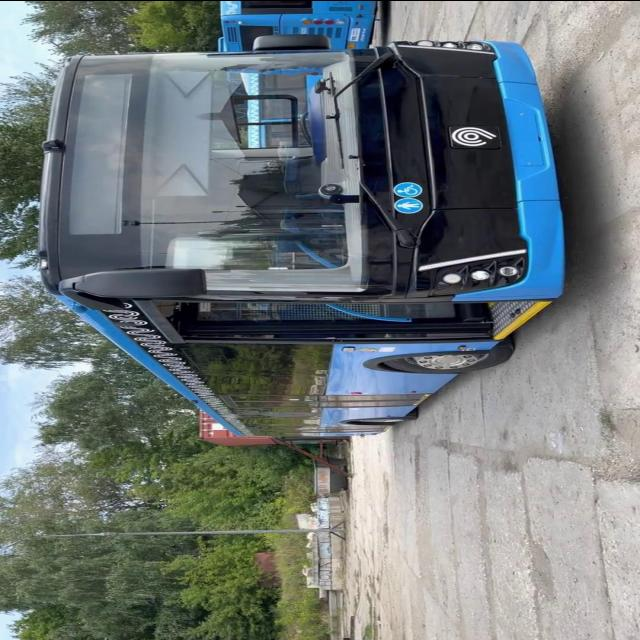bus: (34, 36, 574, 441)
